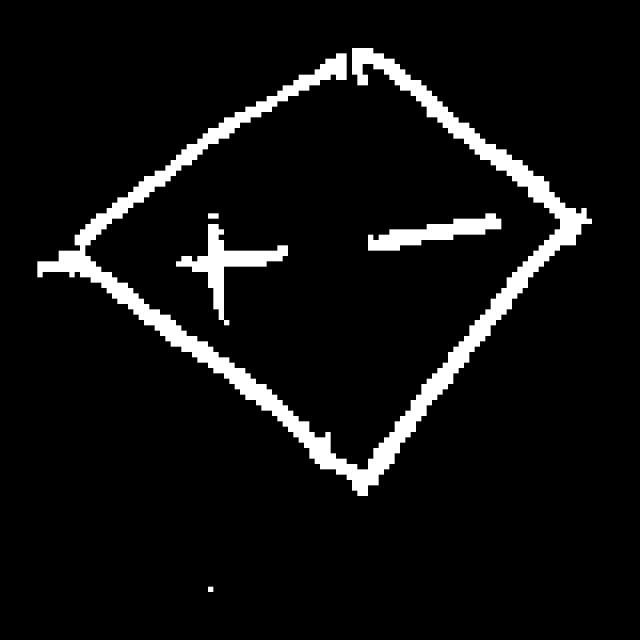dependant_voltage: (52, 37, 593, 489)
